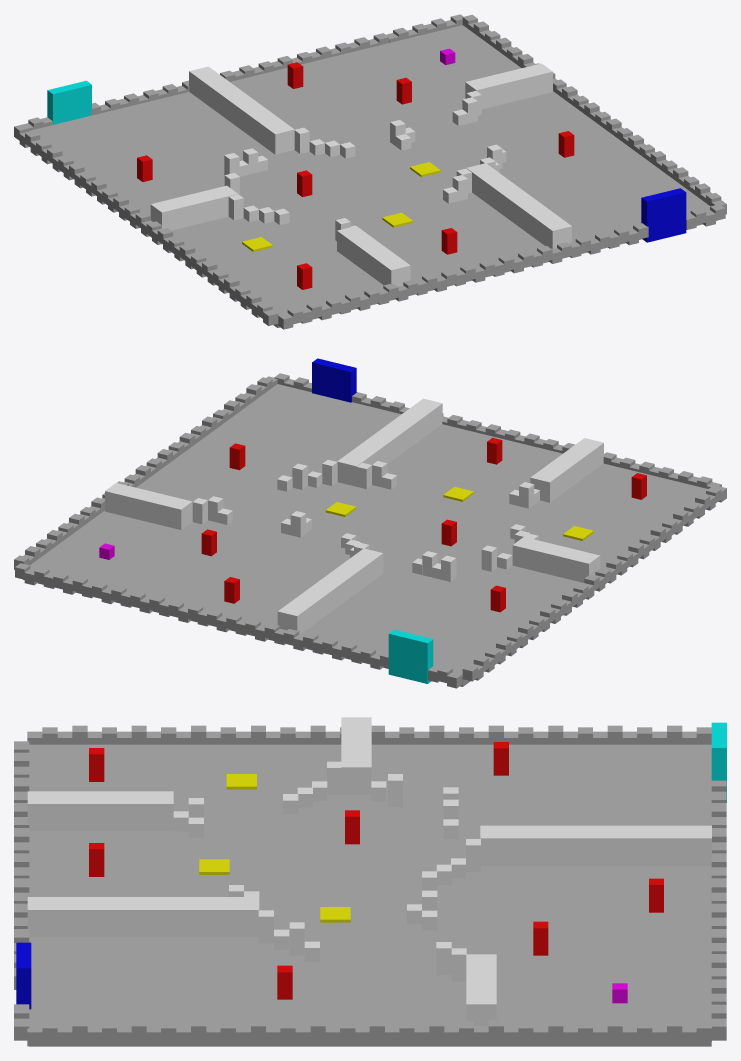
The model's file is level1_b8_45.fbx.
3 renders of one model, top to bottom at view 1: azimuth 30°, elevation 25°; view 2: azimuth 150°, elevation 25°; view 3: azimuth 270°, elevation 25°, orthographic. The views are drawn at different scales.
Parts seen in each view (by area): view 1: pCube1, pCube246, pCube245, pCube205, pCube190, pCube196, pCube251, pCube192, pCube210, pCube212, pCube191, pCube211 (+1 smaller); view 2: pCube1, pCube245, pCube246, pCube211, pCube190, pCube206, pCube247, pCube198, pCube191, pCube209, pCube192, pCube210 (+2 smaller); view 3: pCube1, pCube247, pCube197, pCube248, pCube201, pCube206, pCube193, pCube204, pCube250, pCube199, pCube198, pCube196 (+19 smaller).
Part boxes in pixels (x1,y1,x2,y2): pCube1: (29,25,716,327); pCube246: (641,188,686,242); pCube245: (47,80,91,124); pCube205: (264,121,294,154); pCube190: (150,199,181,230); pCube196: (541,218,571,248); pCube251: (380,257,410,286); pCube192: (189,190,219,223); pCube210: (522,63,552,96); pCube212: (485,72,515,105); pCube191: (170,195,200,227); pCube211: (465,77,495,109); pCube1: (23,384,707,686); pCube245: (388,629,433,683); pCube246: (312,358,356,402); pCube211: (162,497,192,529); pCube190: (569,551,600,582); pCube206: (277,603,308,634); pCube247: (530,469,560,502); pCube198: (337,453,367,486); pCube191: (550,546,580,579); pCube209: (512,537,542,569); pCube192: (531,541,560,574); pCube210: (105,483,135,515); pCube1: (29,744,711,1046); pCube247: (143,791,173,831); pCube197: (143,897,173,937); pCube248: (113,791,143,831); pCube201: (509,825,539,865); pCube206: (681,825,711,865); pCube193: (56,897,86,937); pCube204: (596,825,626,865); pCube250: (56,791,86,831); pCube199: (172,897,202,937); pCube198: (229,897,259,937); pCube196: (27,897,57,937).
Bounding box in the file's own units: 46.93 × 4.78 × 47.
